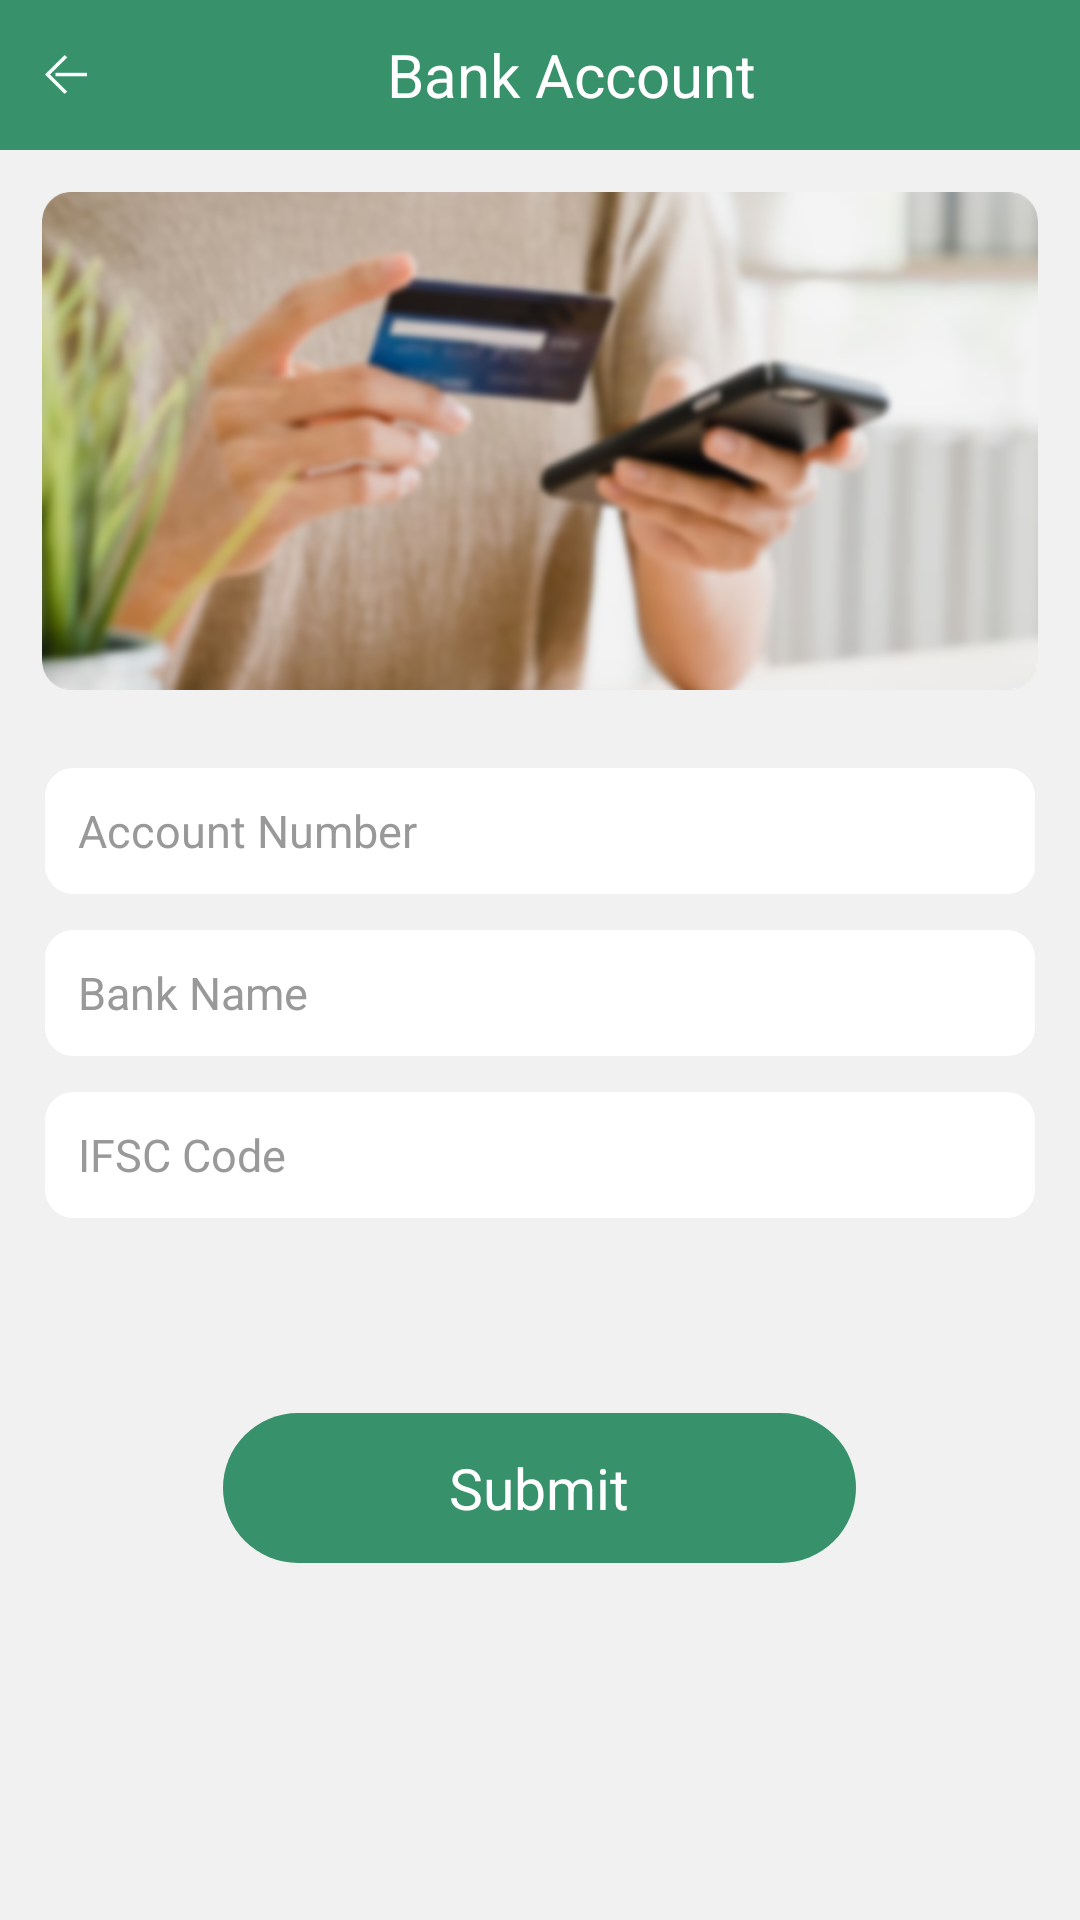

Named icons in this screenshot (1080x1920) and their centers, [x,y]:
back: [66,74]
